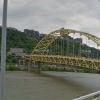Bridge: (26, 25, 95, 73)
